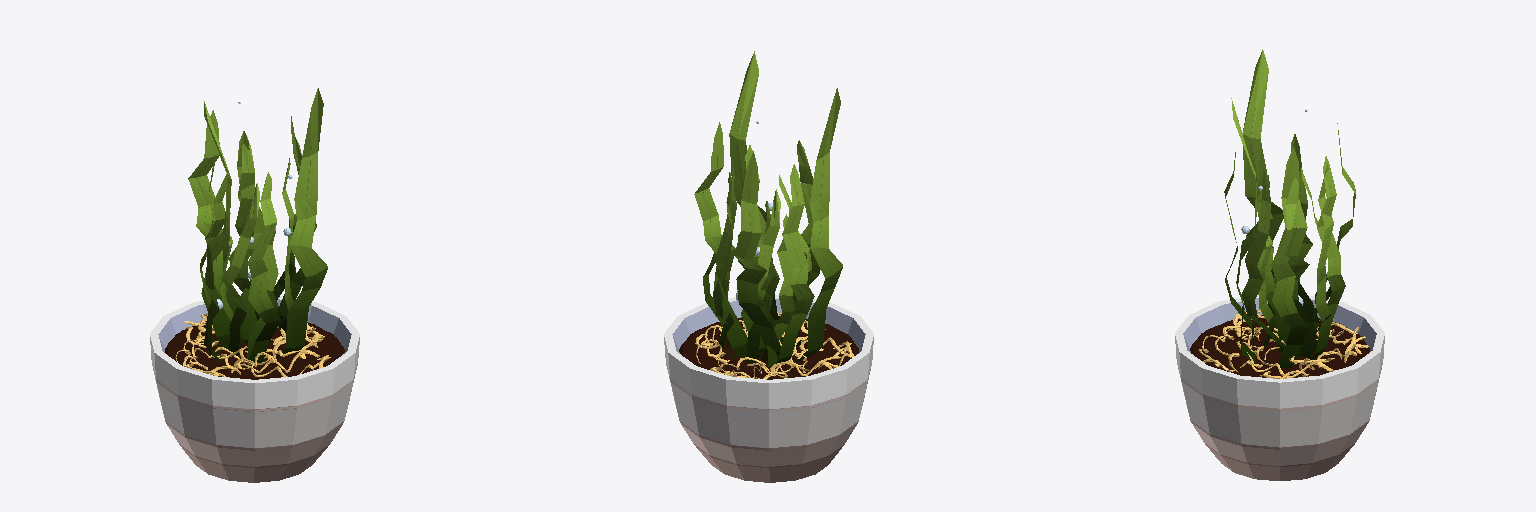
3 renders of one model, left to right at view 1: azimuth 30°, elevation 25°; view 2: azimuth 150°, elevation 25°; view 3: azimuth 270°, elevation 25°, orthographic.
Visible parts, largest first — view 1: group5; view 2: group5; view 3: group5.
Boxes of the visible parts, box(x1,y1,x2,y2) form: group5: box(150, 88, 359, 482); group5: box(664, 51, 873, 482); group5: box(1175, 50, 1384, 480).
Size of the model in its own units: 31.4 by 66.34 by 31.57.
12 materials, 1 textured.